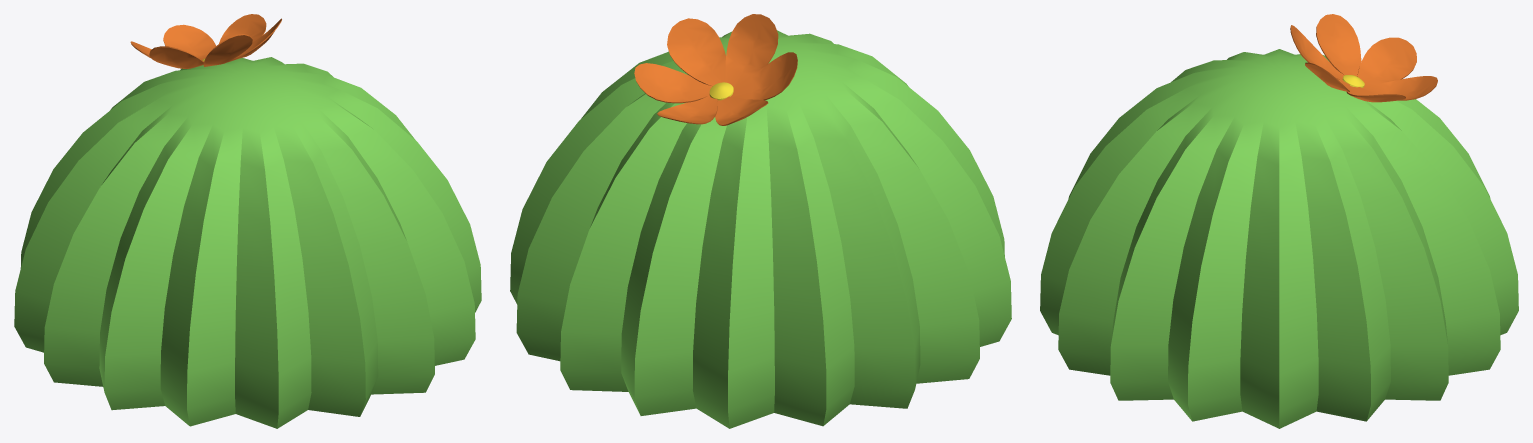
Rendered from Bush_2.fbx.
3 views of the same model, side by side, from view 1: azimuth 30°, elevation 25°; view 2: azimuth 150°, elevation 25°; view 3: azimuth 270°, elevation 25° (orthographic). The views are drawn at different scales.
Visible parts, largest first — view 1: bushes_2; view 2: bushes_2; view 3: bushes_2.
Boxes of the visible parts, x1,y1,x2,y2 form: bushes_2: [14, 14, 481, 428]; bushes_2: [510, 14, 1011, 428]; bushes_2: [1040, 14, 1518, 428].
Bounding box in the file's own units: 50 × 34.85 × 50.
